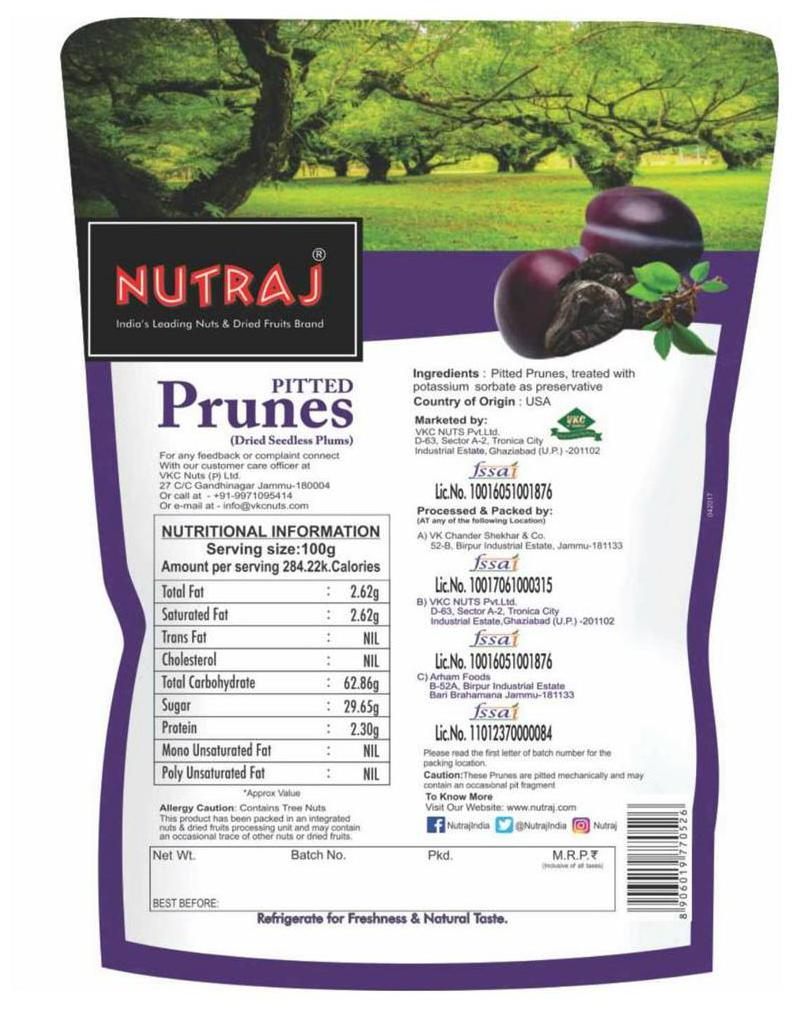fssai: (467, 460, 519, 480), (469, 553, 520, 573), (470, 629, 520, 648), (470, 703, 520, 721)
